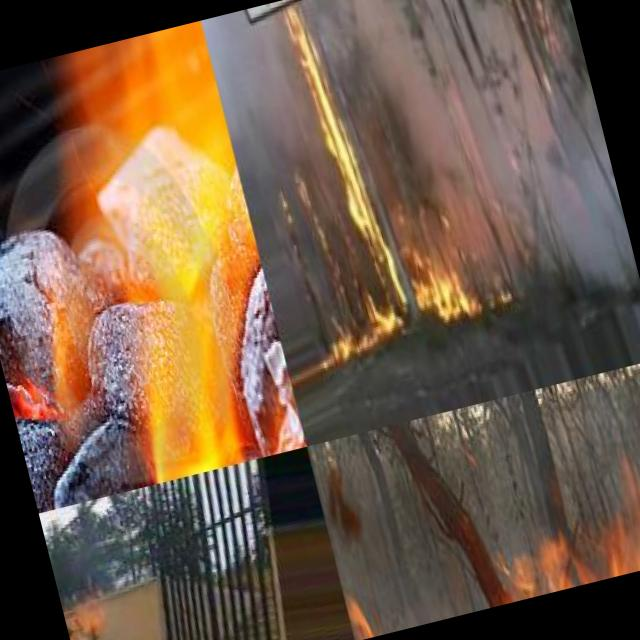fire: (0, 20, 306, 513), (306, 358, 640, 640), (263, 0, 497, 363), (62, 596, 121, 640)
smoke: (415, 0, 632, 312)
